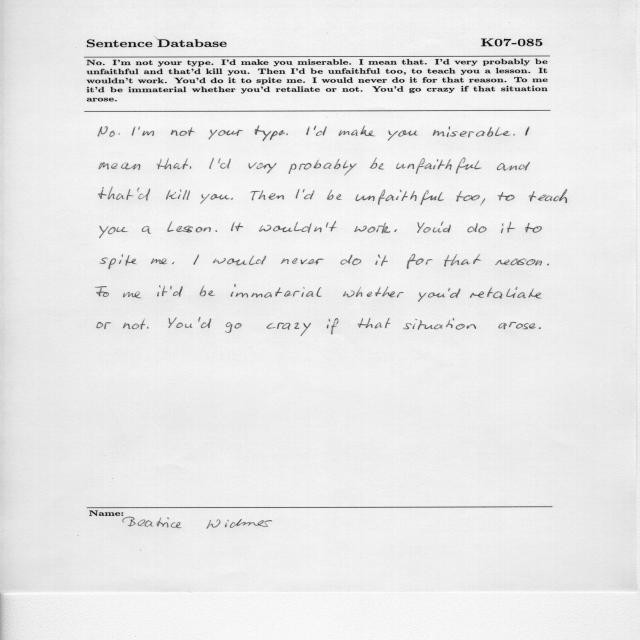word: (396, 157, 482, 174), (356, 189, 444, 205), (231, 284, 322, 298), (289, 159, 357, 175), (259, 221, 336, 233), (403, 318, 476, 330), (433, 127, 511, 138), (470, 287, 541, 299), (343, 287, 404, 298), (267, 323, 311, 336), (100, 254, 137, 269), (529, 189, 567, 203), (213, 256, 266, 266), (167, 222, 211, 233), (444, 254, 481, 267), (255, 126, 285, 141), (99, 187, 133, 200), (339, 126, 375, 137), (407, 254, 433, 269), (355, 223, 391, 233), (99, 226, 128, 238), (157, 158, 188, 169), (209, 130, 243, 140), (99, 162, 141, 170), (388, 130, 418, 141), (251, 191, 284, 201), (358, 318, 391, 328), (495, 259, 542, 266), (249, 162, 277, 173), (281, 258, 324, 265), (200, 194, 230, 204), (497, 162, 530, 171), (418, 292, 445, 302), (498, 322, 536, 329), (166, 189, 190, 200), (456, 191, 480, 202), (169, 317, 193, 328), (171, 127, 195, 136), (433, 221, 451, 233), (340, 255, 361, 265), (467, 223, 487, 233), (123, 321, 145, 330), (327, 318, 339, 334), (98, 126, 115, 137), (225, 322, 242, 333), (525, 223, 542, 233), (137, 188, 150, 201), (370, 158, 384, 170), (375, 254, 388, 266), (417, 222, 431, 233), (501, 222, 515, 233), (498, 192, 515, 201), (139, 126, 154, 136), (200, 286, 215, 296), (218, 158, 231, 169), (96, 286, 109, 297), (170, 286, 183, 297), (198, 317, 211, 328), (327, 190, 341, 200), (314, 126, 327, 136), (448, 288, 461, 298), (123, 292, 141, 299), (157, 285, 168, 296), (303, 189, 314, 199), (231, 222, 243, 231), (97, 322, 111, 329), (151, 258, 167, 264), (142, 226, 151, 234), (193, 254, 199, 265), (209, 158, 214, 169), (525, 127, 530, 136), (481, 198, 486, 206), (296, 189, 300, 198), (132, 127, 136, 135), (306, 127, 310, 135), (394, 229, 397, 232), (118, 133, 120, 135), (286, 134, 288, 136), (513, 134, 515, 136), (231, 198, 233, 200), (215, 230, 217, 232), (172, 262, 174, 264), (547, 264, 549, 266), (147, 327, 149, 329), (539, 327, 541, 329), (190, 166, 191, 169)
